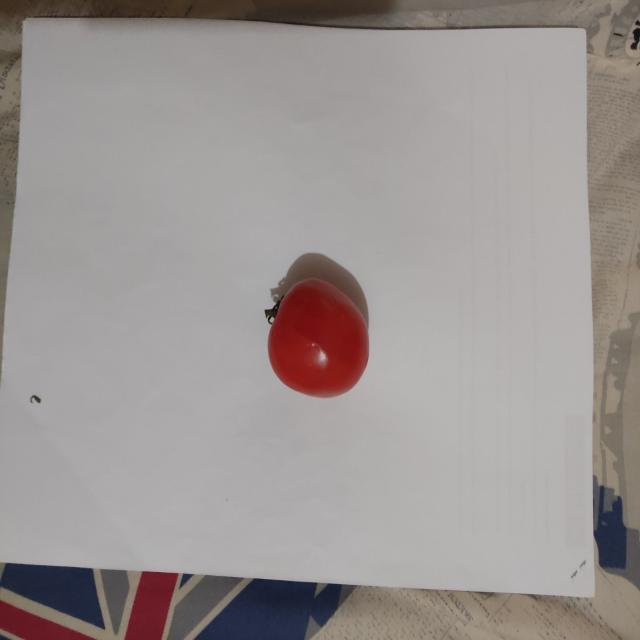kirmizi: (266, 274, 402, 412)
